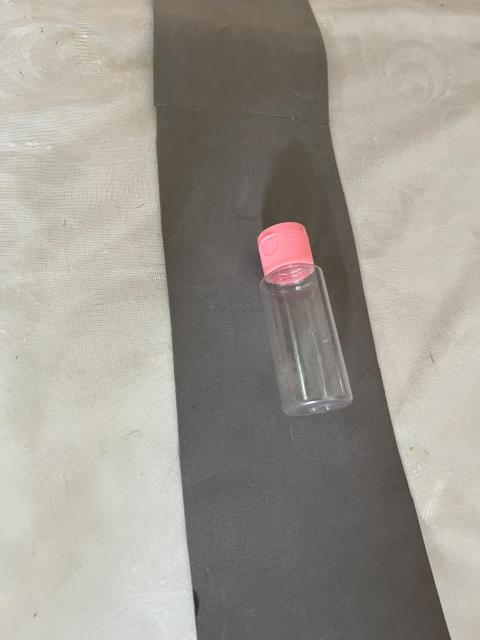PET: (164, 174, 415, 485)
